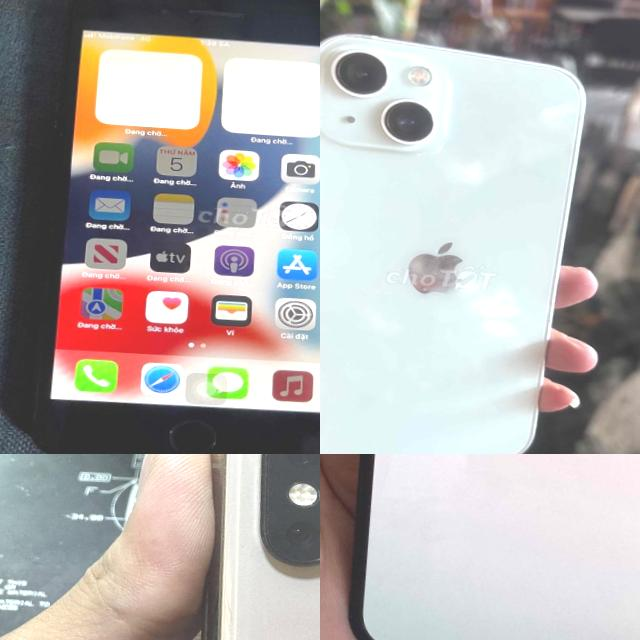gen_14: (338, 454, 640, 640)
gen_15: (320, 19, 598, 454)
gen_7_8: (19, 0, 320, 454)
gen_x_xs: (180, 454, 320, 640)
